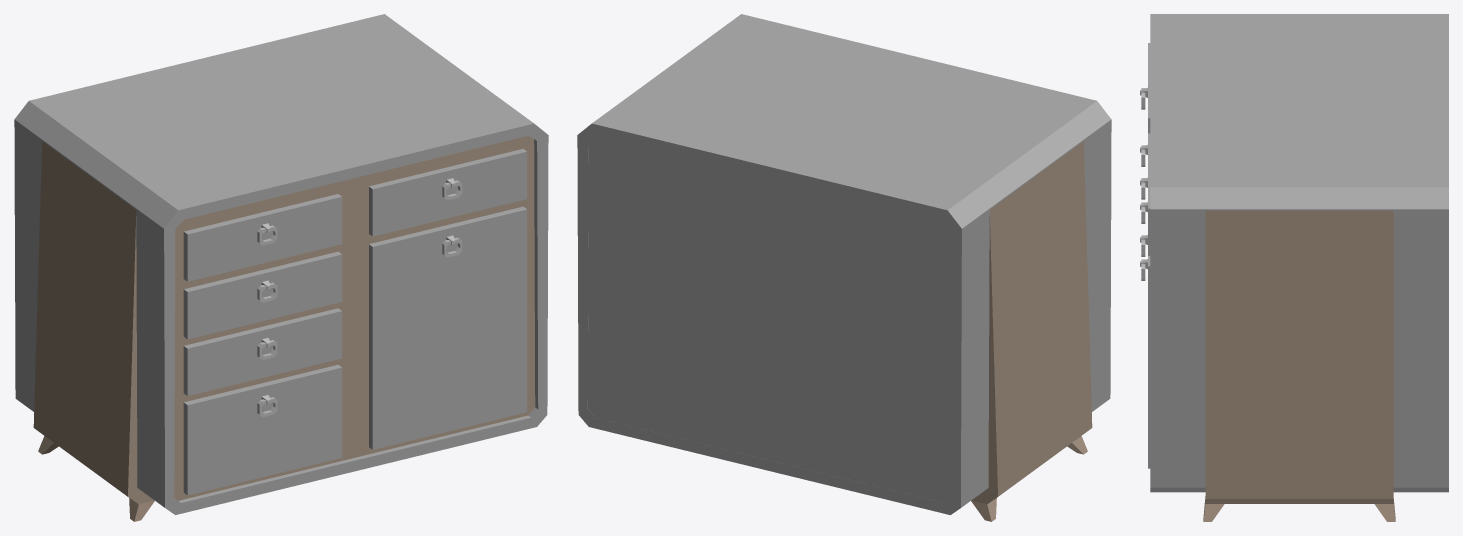
The model's file is Drawer.glb.
3 views of the same model, side by side, from view 1: azimuth 30°, elevation 25°; view 2: azimuth 150°, elevation 25°; view 3: azimuth 270°, elevation 25° (orthographic).
Parts seen in each view (by area): view 1: pCube15, pCube22, pCube41, pCube21, pCube24, pCube26, pCube27, pCube25, pCube28; view 2: pCube20, pCube15, pCube41; view 3: pCube15, pCube41, pCube22, pCube28.
Boxes of the visible parts, bbox=[...] form: pCube15: bbox=[14, 14, 548, 514]; pCube22: bbox=[369, 206, 527, 449]; pCube41: bbox=[33, 141, 154, 504]; pCube21: bbox=[174, 135, 535, 500]; pCube24: bbox=[183, 365, 342, 495]; pCube26: bbox=[183, 251, 342, 339]; pCube27: bbox=[183, 194, 342, 281]; pCube25: bbox=[183, 308, 342, 395]; pCube28: bbox=[369, 148, 527, 236]; pCube20: bbox=[588, 135, 951, 502]; pCube15: bbox=[577, 14, 1111, 514]; pCube41: bbox=[971, 141, 1092, 504]; pCube15: bbox=[1150, 14, 1448, 492]; pCube41: bbox=[1205, 210, 1393, 503]; pCube22: bbox=[1148, 256, 1150, 468]; pCube28: bbox=[1148, 133, 1150, 255].
Size of the model in its own units: 58.67 by 45.66 by 39.17.
